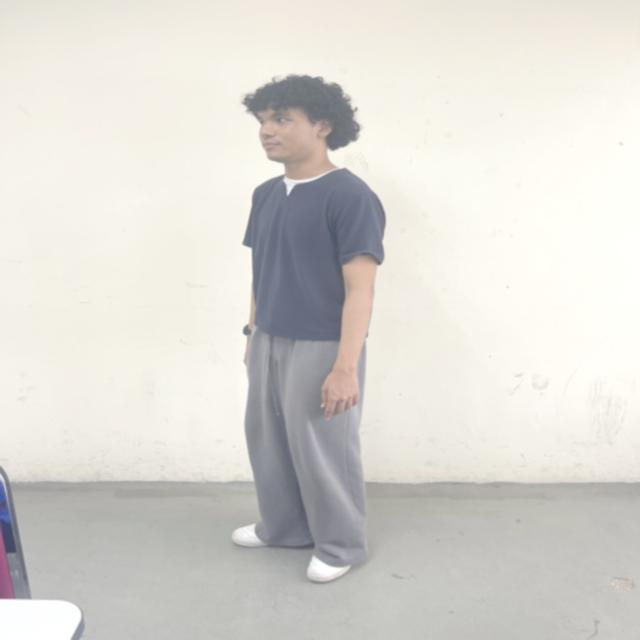person_without_labcoat: (232, 76, 385, 583)
